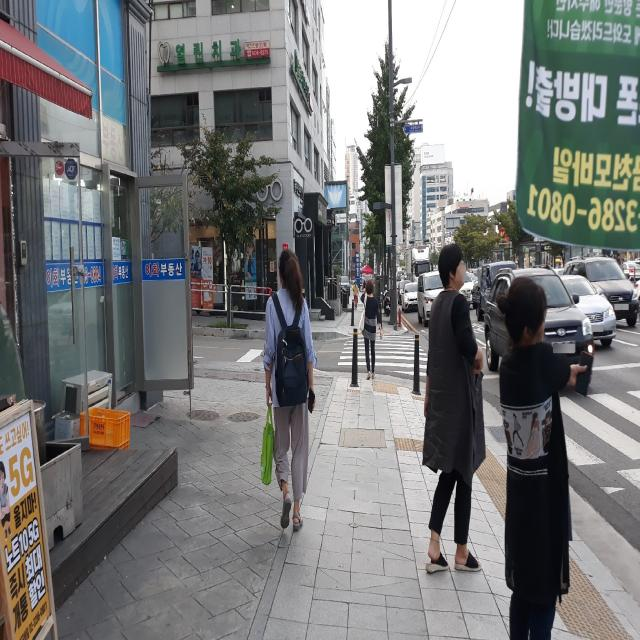횡단보도: (574, 386, 640, 500), (337, 336, 428, 376)
